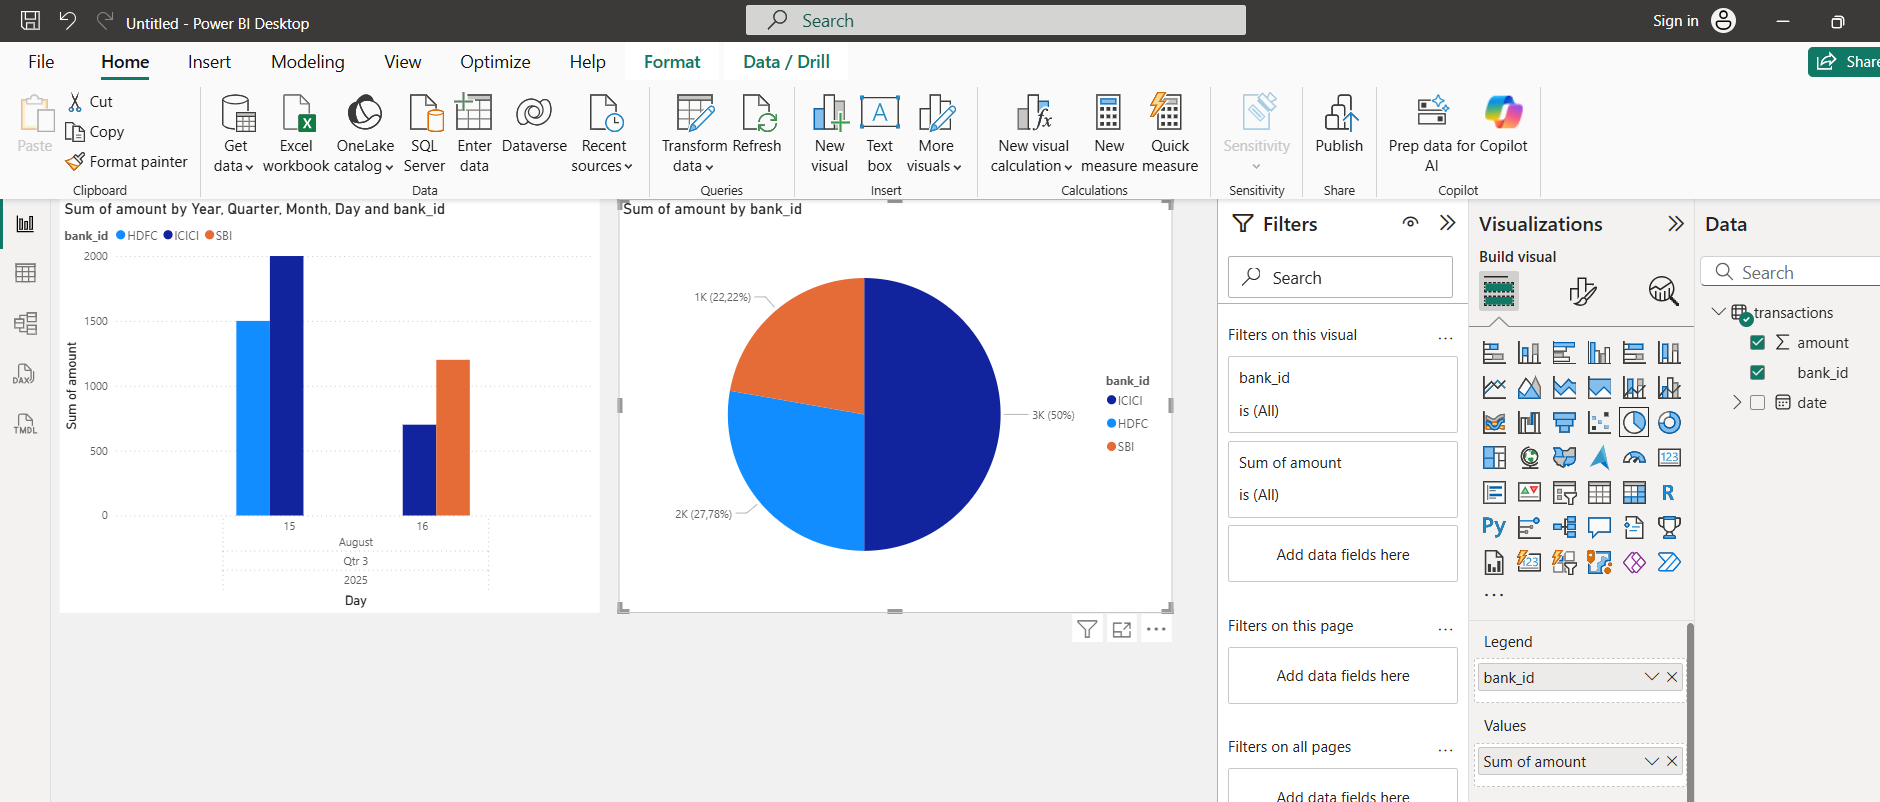

This screenshot's page, from the dashboard's own definition file:
{"tool":"powerbi","page":{"name":"Page 1","canvas":[1280,720],"ordinal":0},"visuals":[{"type":"clusteredColumnChart","fields":{"Category":["transactions.date.Variation.Date Hierarchy.Year","transactions.date.Variation.Date Hierarchy.Quarter","transactions.date.Variation.Date Hierarchy.Month","transactions.date.Variation.Date Hierarchy.Day"],"Y":["Sum(transactions.amount)"],"Series":["transactions.bank_id"]},"box":[9.6,0,629.8,577.7],"z":0},{"type":"pieChart","fields":{"Category":["transactions.bank_id"],"Y":["Sum(transactions.amount)"]},"box":[666.9,0,575,577.7],"z":1}]}

Visuals, with their boxes on the page's 1280x720 design canvas (x1, y1, x2, y2). These are canvas units, not pixel positions in the 1880x802 screenshot, which may show the page scaled, cropped or inside an application window:
clusteredColumnChart - transactions.date.Variation.Date Hierarchy.Year x transactions.date.Variation.Date Hierarchy.Quarter: x1=10 y1=0 x2=639 y2=578
pieChart - transactions.bank_id x Sum(transactions.amount): x1=667 y1=0 x2=1242 y2=578
